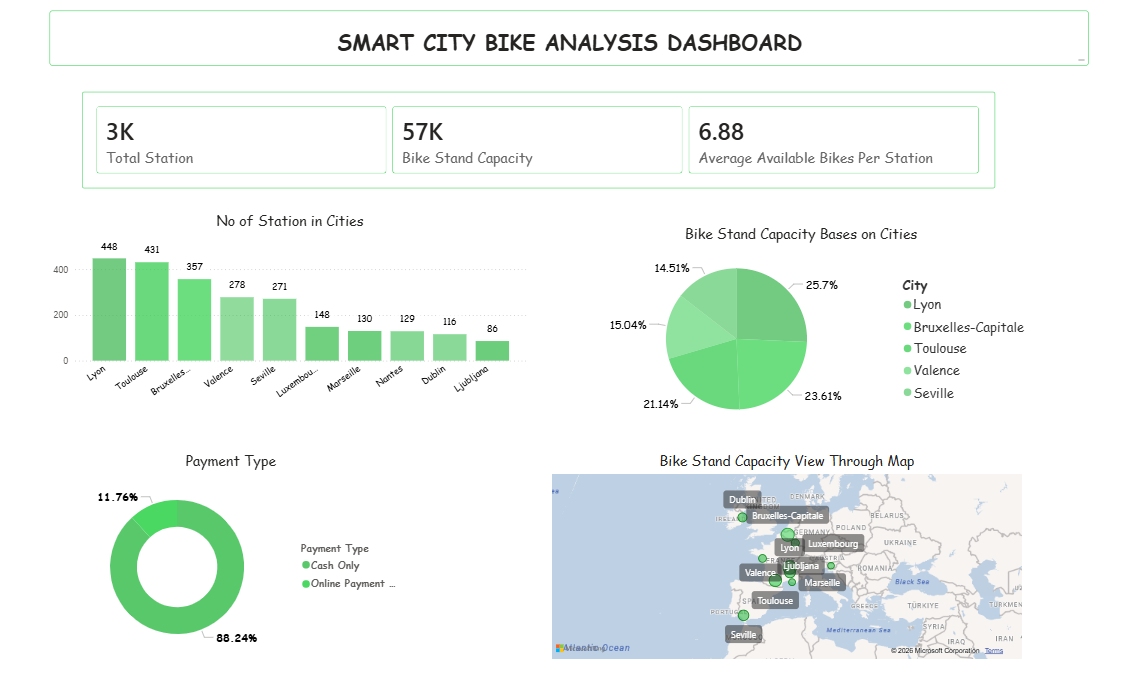

What the dashboard file says about the page in this screenshot:
{"tool":"powerbi","page":{"name":"Page 1","canvas":[1600,1200],"ordinal":0},"visuals":[{"type":"cardVisual","fields":{"Data":["Measure.StationCount","Measure.No of Bike Stands","Measure.AvgAvailableBikes"]},"box":[152.7,125.2,1217.8,128.6],"z":0},{"type":"pieChart","title":"Bike Stand Capacity Bases on Cities","fields":{"Category":["Bike.City "],"Y":["Sum(Bike.Bike Stands)"]},"box":[799.3,300.2,624.4,283],"z":1000},{"type":"lineClusteredColumnComboChart","title":"No of Station in Cities","fields":{"Category":["Bike.City "],"Y":["Measure.StationCount"]},"box":[109.8,283,641.5,262.4],"z":2000},{"type":"donutChart","title":"Payment Type","fields":{"Category":["Bike.Payment"],"Y":["Measure.StationCount"]},"box":[109.8,603.8,483.7,284.7],"z":3000},{"type":"map","title":"Bike Stand Capacity View Through Map","fields":{"Category":["Bike.City "],"Size":["Measure.Bike Stand Capacity"]},"box":[775.3,603.8,636.4,283],"z":4000},{"type":"textbox","title":"SMART CITY BIKE ANALYSIS DASHBOARD","box":[109.8,17.2,1385.9,73.8],"z":5000},{"type":"decompositionTreeVisual","fields":{"ExplainBy":["Bike.City ","Bike.Payment"],"Analyze":["Measure.Bike Stand Capacity"]},"box":[109.3,912.1,1385.1,265.7],"z":5001}]}

Visuals, with their boxes on the page's 1600x1200 design canvas (x1, y1, x2, y2). These are canvas units, not pixel positions in the 1126x680 screenshot, which may show the page scaled, cropped or inside an application window:
cardVisual - Measure.StationCount x Measure.No of Bike Stands: select_region(153, 125, 1370, 254)
"Bike Stand Capacity Bases on Cities" pieChart: select_region(799, 300, 1424, 583)
"No of Station in Cities" lineClusteredColumnComboChart: select_region(110, 283, 751, 545)
"Payment Type" donutChart: select_region(110, 604, 594, 888)
"Bike Stand Capacity View Through Map" map: select_region(775, 604, 1412, 887)
"SMART CITY BIKE ANALYSIS DASHBOARD" textbox: select_region(110, 17, 1496, 91)
decompositionTreeVisual - Bike.City  x Bike.Payment: select_region(109, 912, 1494, 1178)
